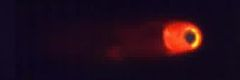keyhole: (181, 28, 198, 46)
